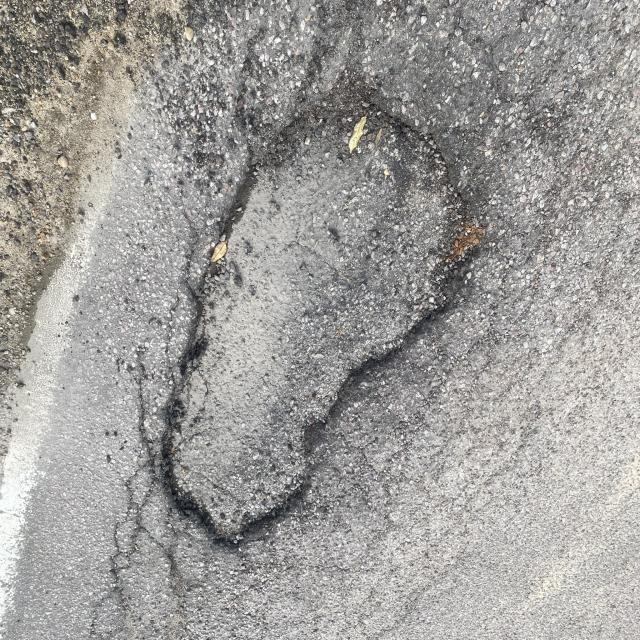Pothole: (134, 45, 500, 572)
